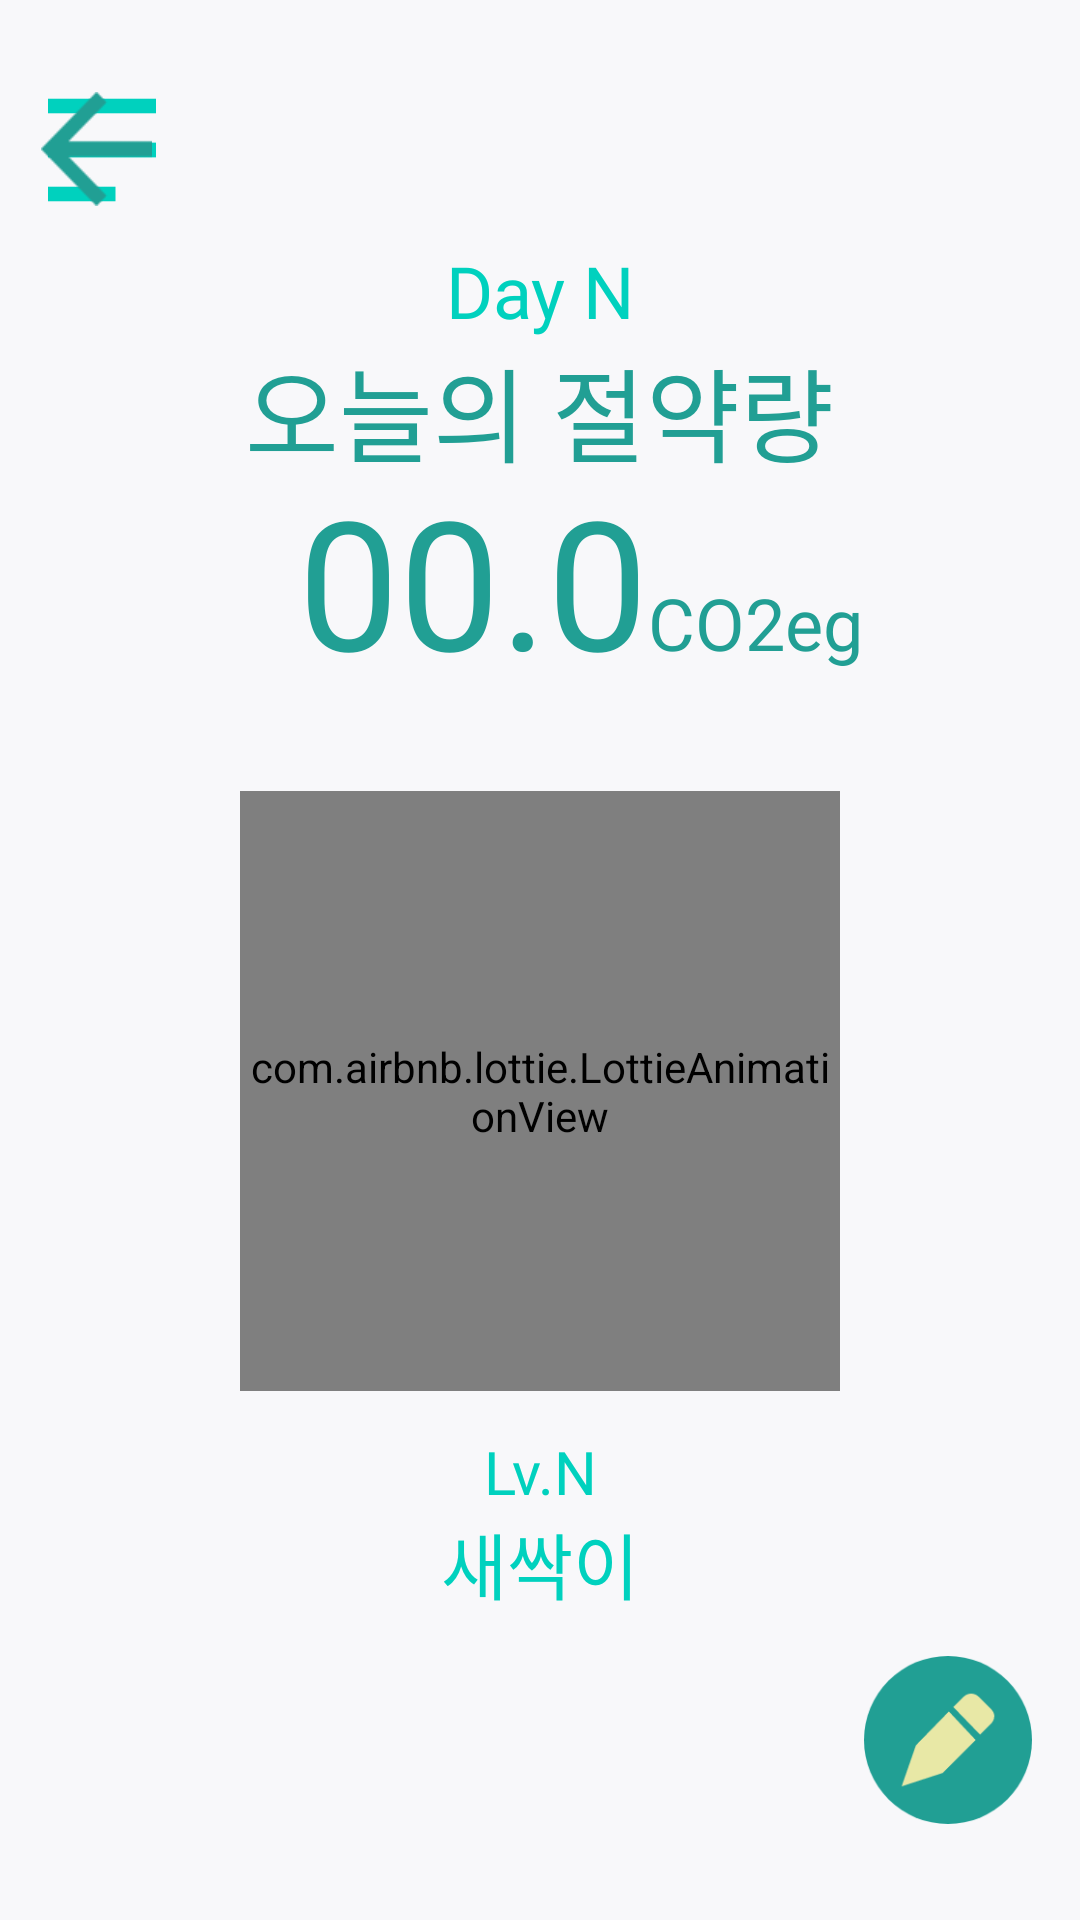

Named icons in this screenshot (1080 x 1920) and their bounding boxes, (x1, y1, x2, y2):
recordfloating: (864, 1656, 1032, 1824)
